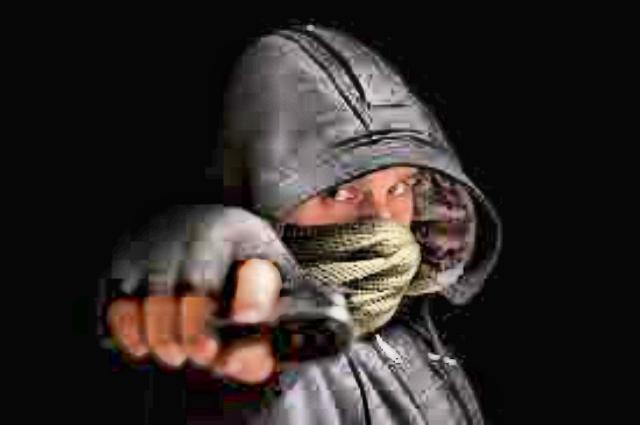pistol: (128, 270, 354, 356)
